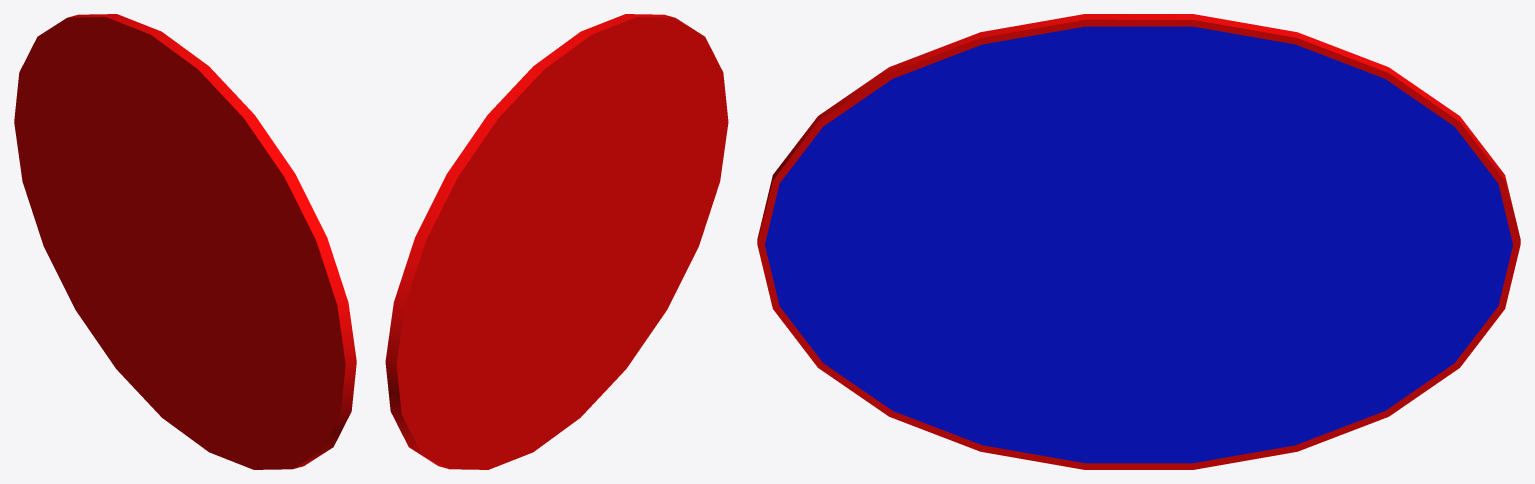
File: Mirror.fbx
3 renders of one model, left to right at view 1: azimuth 30°, elevation 25°; view 2: azimuth 150°, elevation 25°; view 3: azimuth 270°, elevation 25°, orthographic. The views are drawn at different scales.
Visible parts, largest first — view 1: Mirror; view 2: Mirror; view 3: Mirror.
Part boxes in pixels (bbox=[...]): Mirror: bbox=[14, 14, 356, 469]; Mirror: bbox=[385, 14, 728, 469]; Mirror: bbox=[757, 14, 1520, 469].
Bounding box in the file's own units: 3.23 × 53.22 × 82.86.
